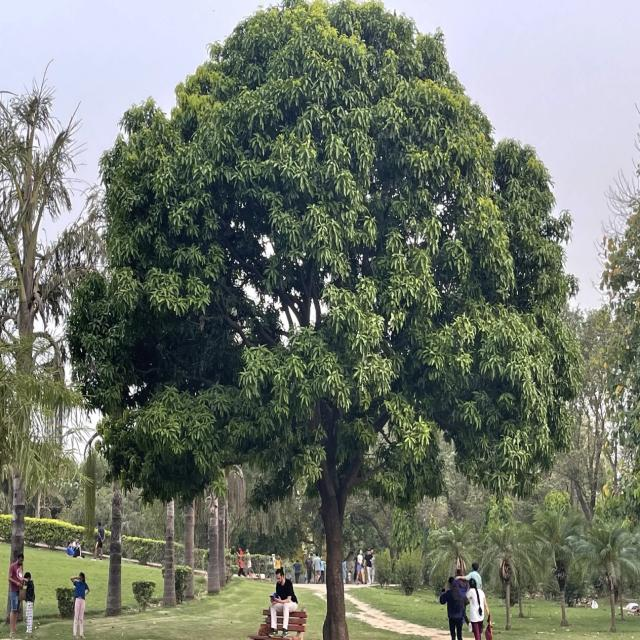Mango-Tree: (55, 10, 613, 624)
